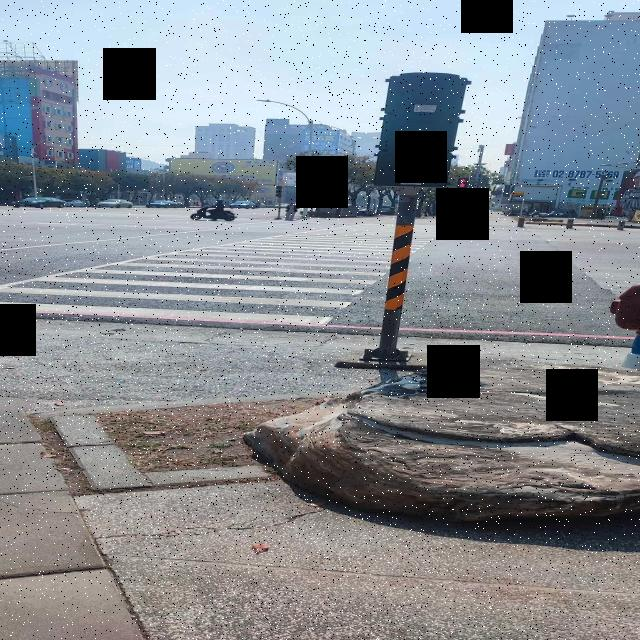zebra crossing: (0, 224, 397, 325), (413, 223, 450, 254)
